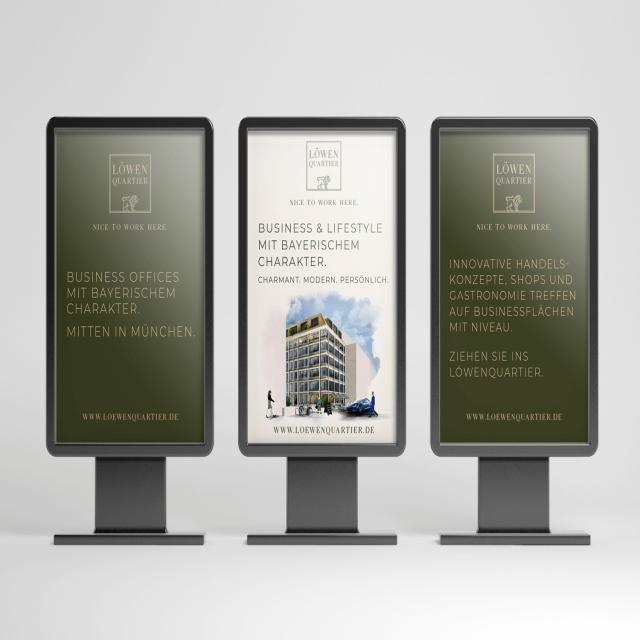Werbetafel frei: (45, 117, 215, 462), (429, 118, 599, 463), (239, 118, 407, 462)
